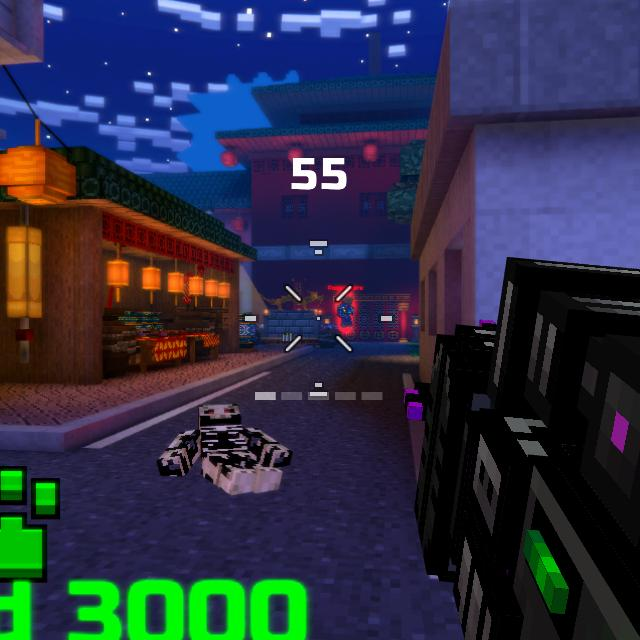Enemy: (336, 294, 356, 326)
